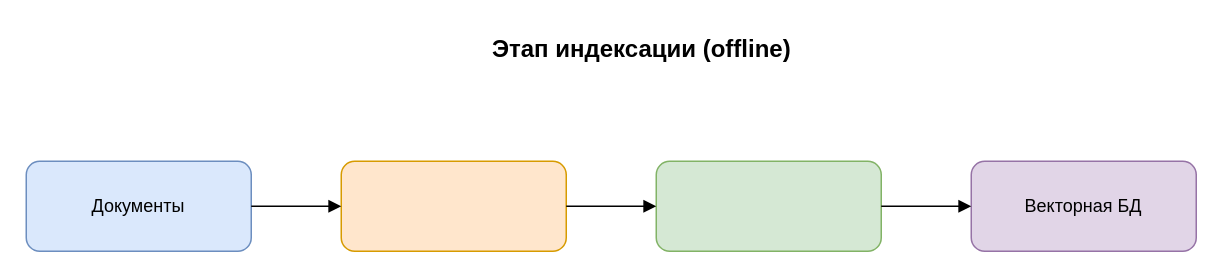
Image size: 1223x278. Some labels were removed from this diagram. Here are the shapes that lost their labels. From the top down, the box of each, then its label:
(340, 160, 566, 251): Чанкинг (нарезка)
(655, 160, 881, 251): Эмбеддинг (→ векторы)
